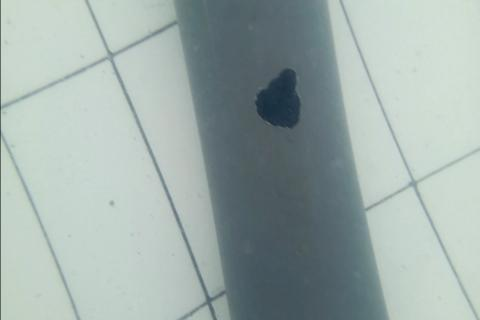kebocoran: (255, 64, 303, 130)
